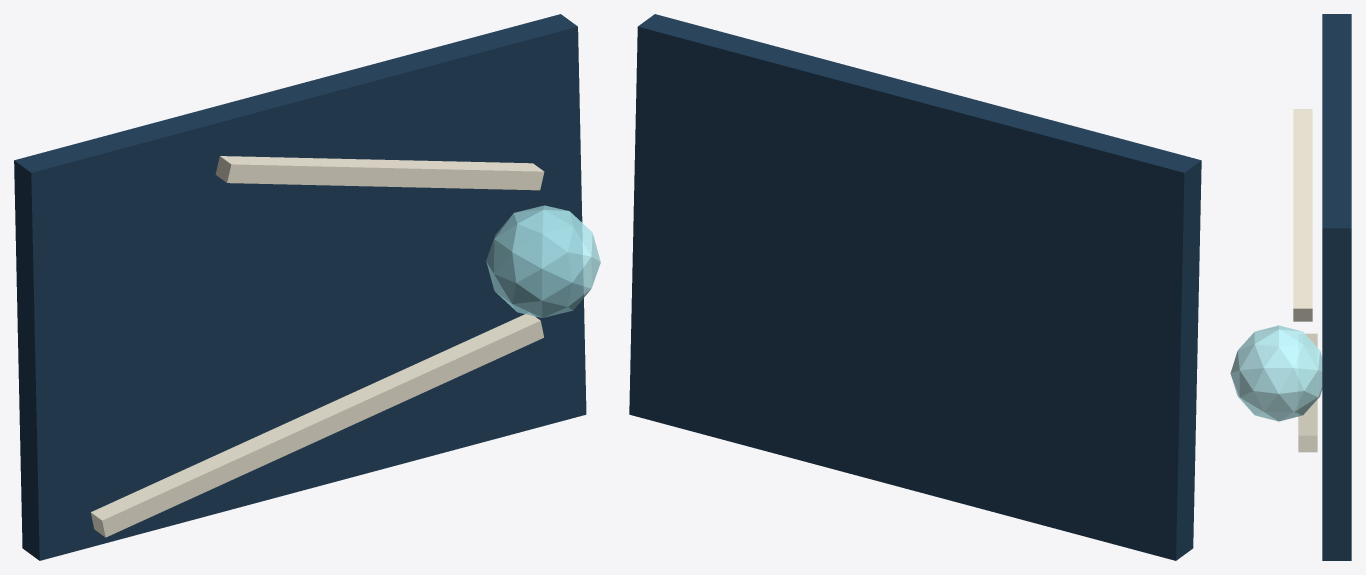
The model's file is 02_world_prop_polish.glb.
3 views of the same model, side by side, from view 1: azimuth 30°, elevation 25°; view 2: azimuth 150°, elevation 25°; view 3: azimuth 270°, elevation 25° (orthographic). The views are drawn at different scales.
Visible parts, largest first — view 1: object_overlay_plate, edge_wear_a, glow_socket, edge_wear_b; view 2: object_overlay_plate; view 3: object_overlay_plate, glow_socket, edge_wear_b, edge_wear_a.
Part boxes in pixels (bbox=[...]): object_overlay_plate: bbox=[14, 14, 586, 560]; edge_wear_a: bbox=[91, 313, 543, 537]; glow_socket: bbox=[486, 205, 600, 317]; edge_wear_b: bbox=[215, 156, 544, 190]; object_overlay_plate: bbox=[629, 14, 1201, 560]; object_overlay_plate: bbox=[1322, 14, 1351, 560]; glow_socket: bbox=[1230, 325, 1322, 421]; edge_wear_b: bbox=[1293, 109, 1312, 321]; edge_wear_a: bbox=[1298, 333, 1317, 452].
Bounding box in the file's own units: 1.12 × 0.7747 × 0.25.
